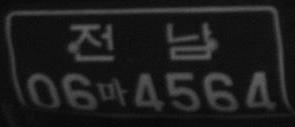0: (25, 72, 61, 109)
4: (244, 70, 277, 111), (132, 71, 165, 111)
5: (165, 71, 200, 112)
6: (202, 71, 240, 112), (62, 72, 98, 110)
마: (98, 77, 128, 107)
전남_D: (69, 20, 213, 63)
